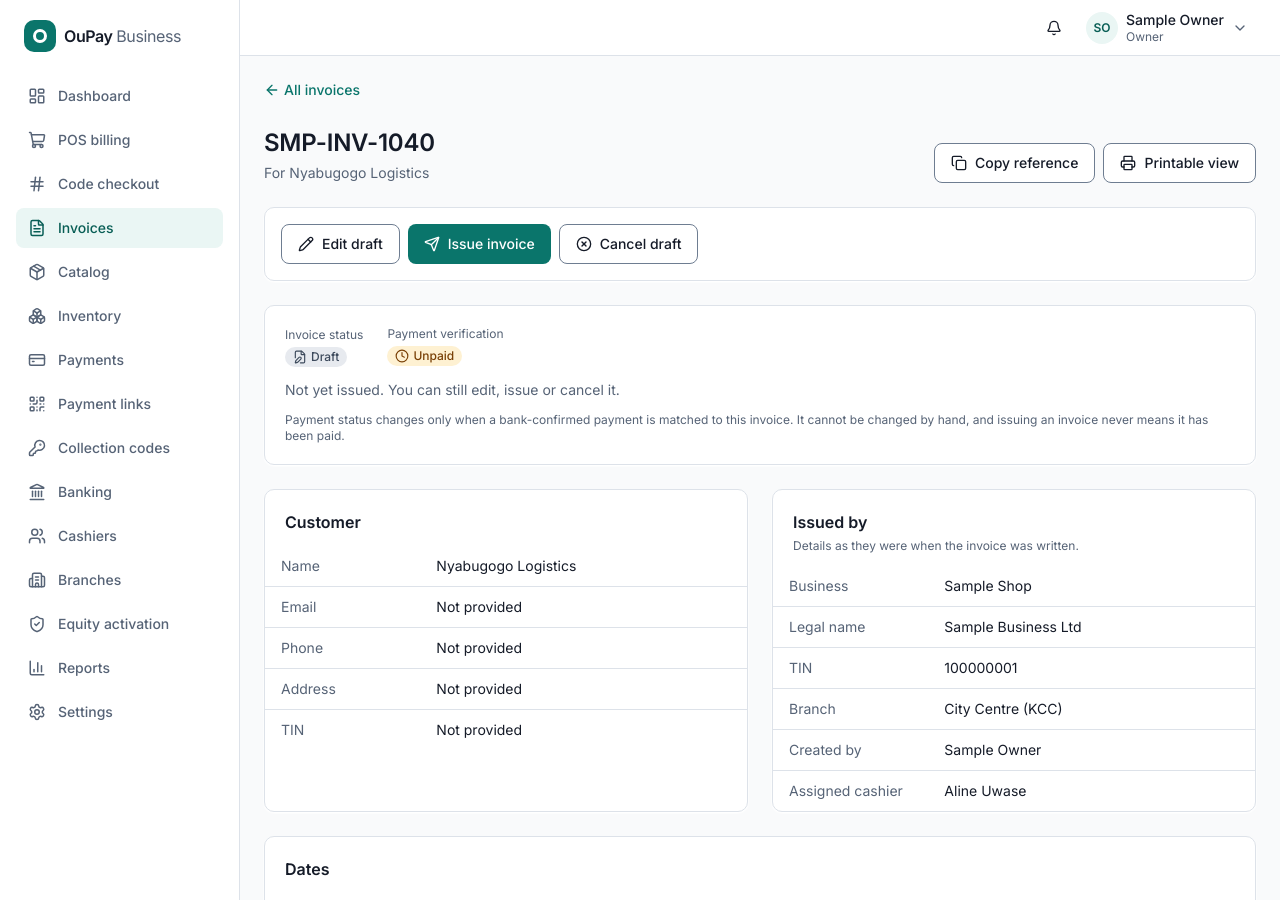
Scenario: issuing, cancelling and voiding from the details page › shows the reason when an action is refused and keeps the dialog open
This screenshot has width=1280, height=900.
Click the button "Issue invoice" at (479, 244), box [408,224,551,264]
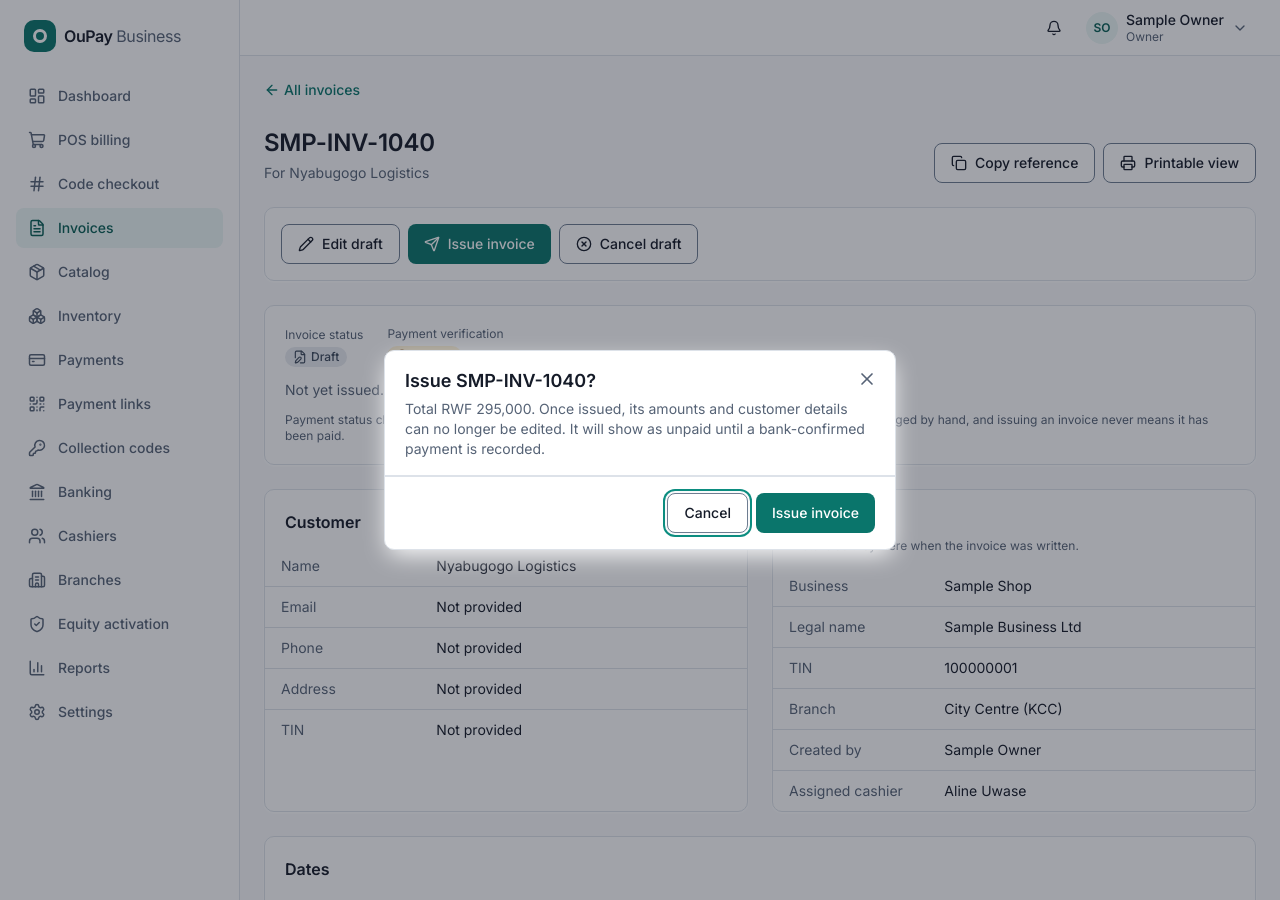
Click the button "Issue invoice" at (815, 513), box [756,493,875,533]
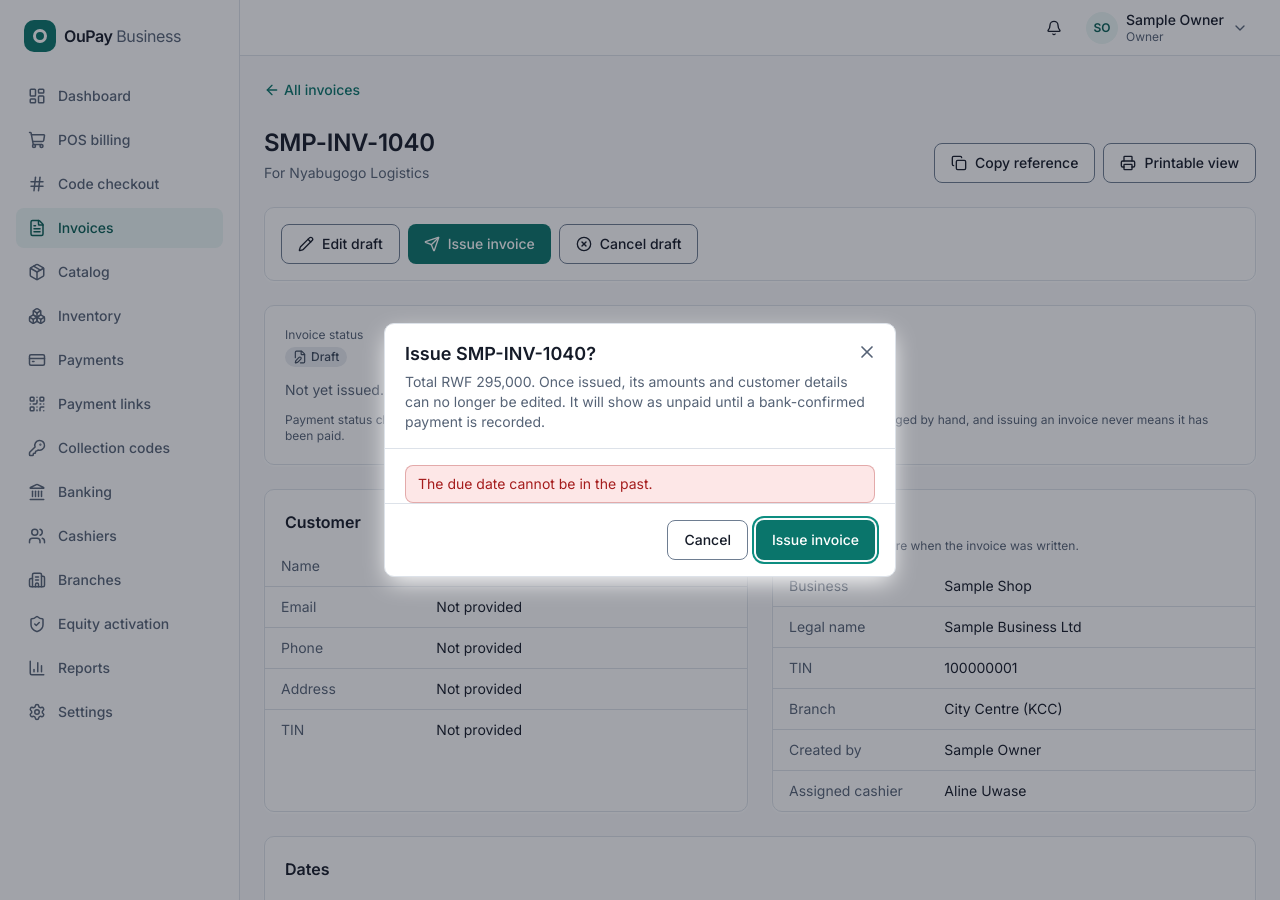
Now the dialog is shown, box [384,323,896,577]
Now the message reads "The due date cannot be in the past.", box [418,475,653,492]
